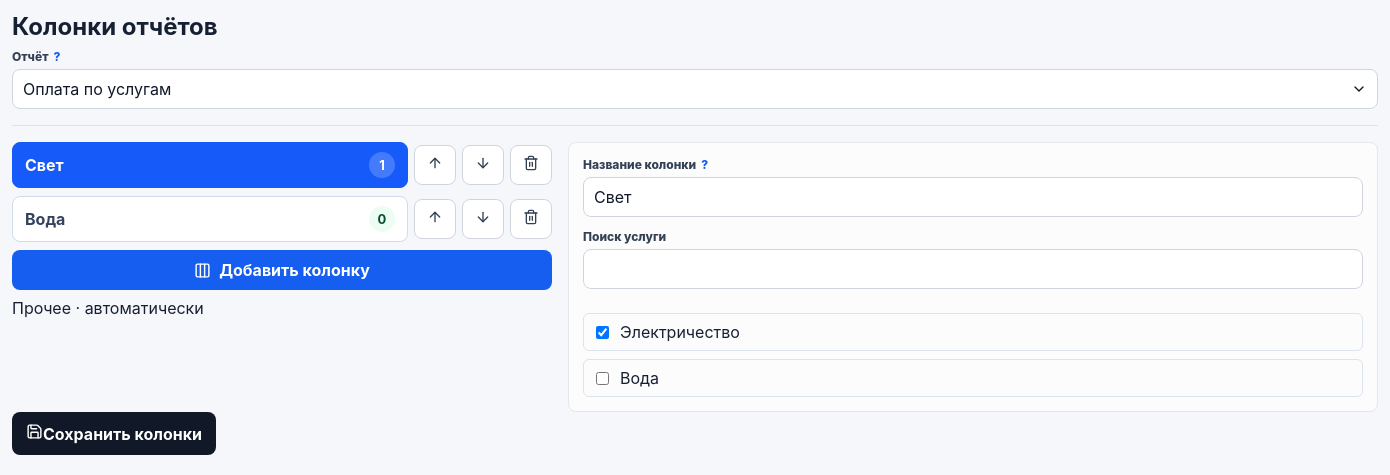
it: adds and removes columns and filters available services
expect the field showing "Свет" is shown: met, box left=583, top=177, right=1363, bottom=217
Click the button "Добавить колонку" at (282, 270), box left=12, top=250, right=552, bottom=290
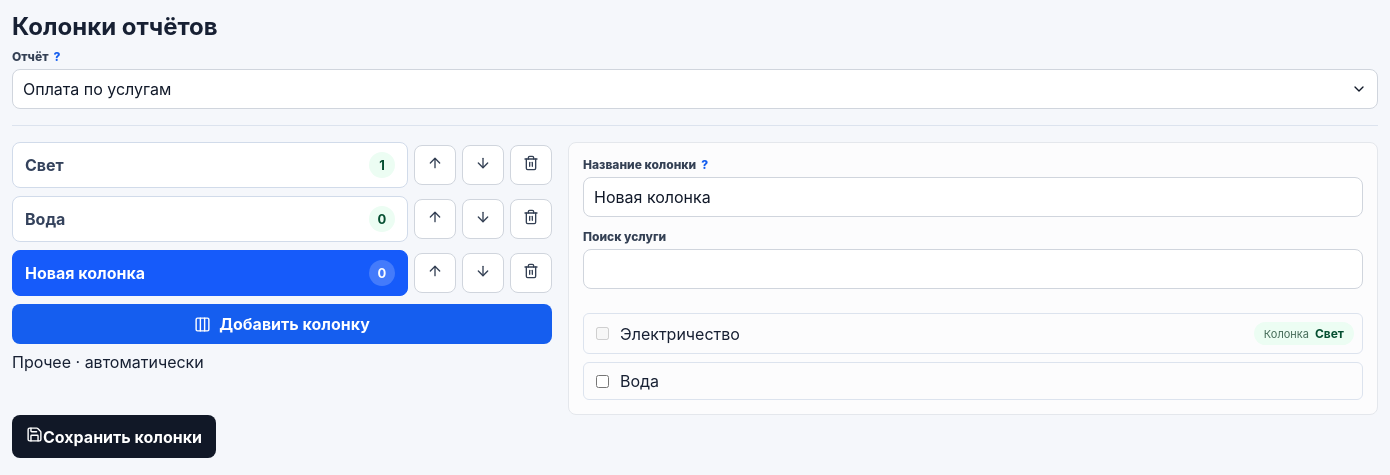
expect the field showing "Новая колонка" is shown: met, box left=583, top=177, right=1363, bottom=217
Type "нет услуги" into the field labelled "Поиск услуги" at (973, 269), box left=583, top=249, right=1363, bottom=289
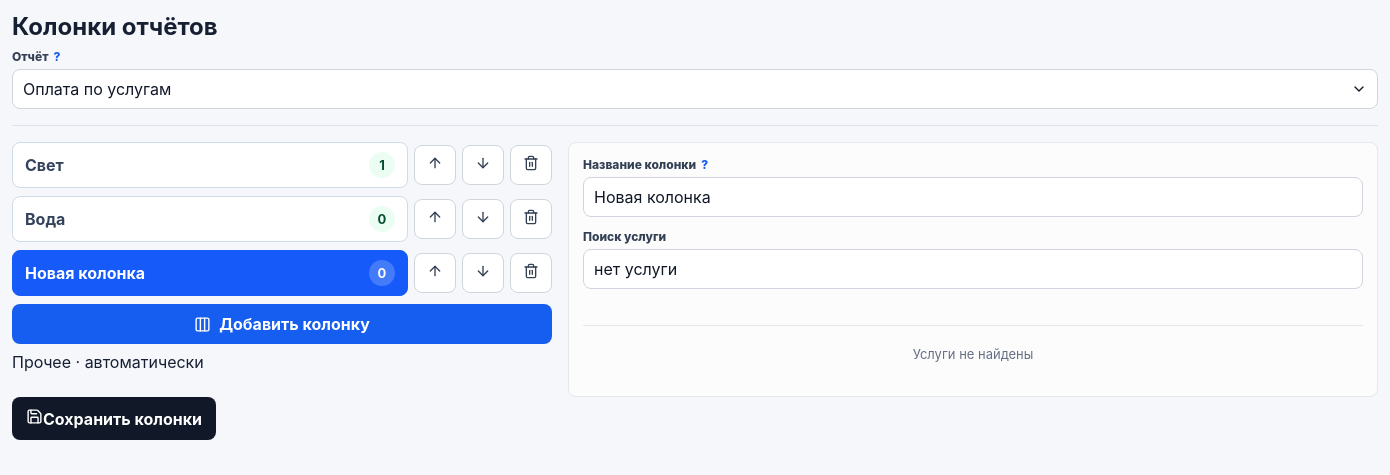
expect the text "Услуги не найдены" is shown: met, box left=583, top=325, right=1363, bottom=382
Click the button named "Удалить колонку Новая колонка" at (531, 273), box left=510, top=253, right=552, bottom=293
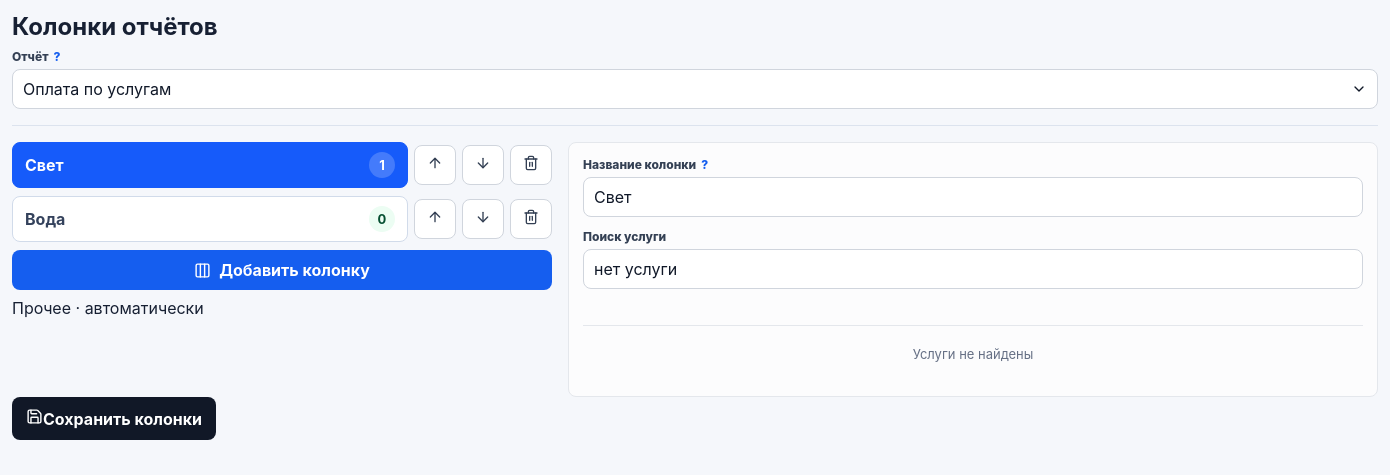
expect the button showing "Новая колонка" is gone: met
